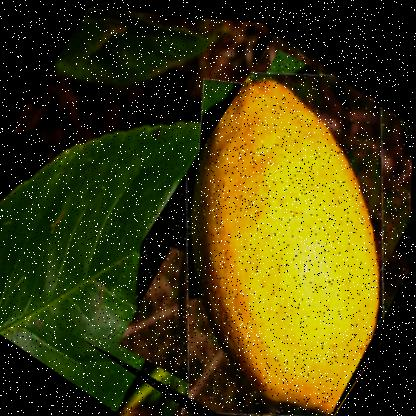lemon: (79, 14, 415, 415)
